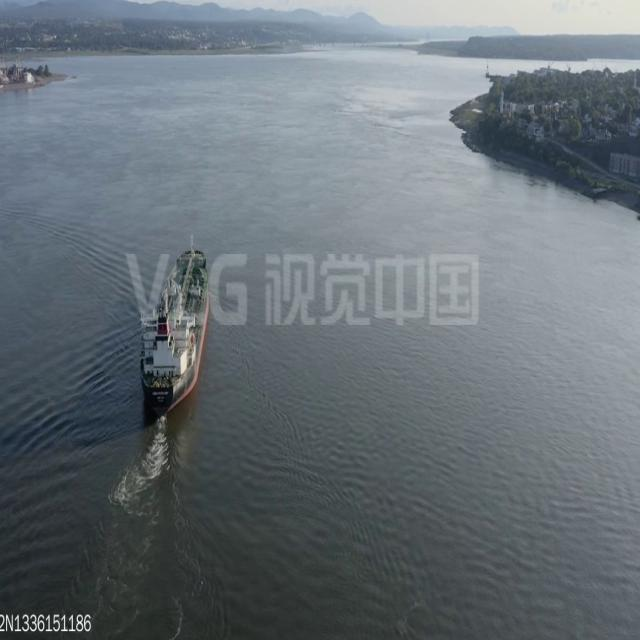cargoship: (139, 238, 209, 410)
